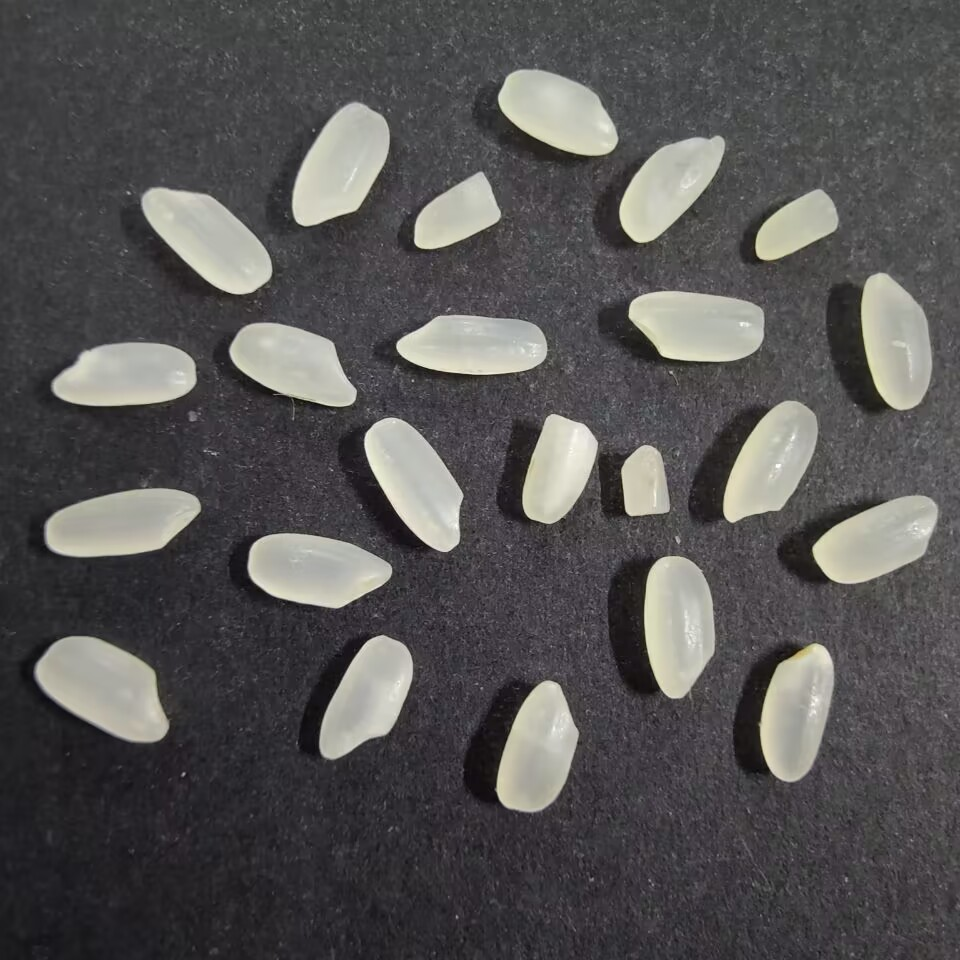broken: (516, 411, 600, 528), (410, 169, 504, 254), (752, 186, 842, 264), (613, 440, 677, 520)
rice: (360, 414, 472, 558), (32, 634, 171, 750), (139, 183, 275, 295), (287, 98, 393, 232), (312, 632, 416, 763), (490, 677, 584, 817), (720, 396, 819, 528), (616, 132, 729, 245), (244, 531, 395, 613), (812, 490, 943, 584), (41, 485, 202, 560), (227, 319, 360, 409), (641, 555, 722, 701), (496, 67, 623, 158), (756, 641, 835, 787), (389, 311, 552, 379), (856, 269, 934, 410), (626, 289, 769, 364), (49, 339, 199, 408)
